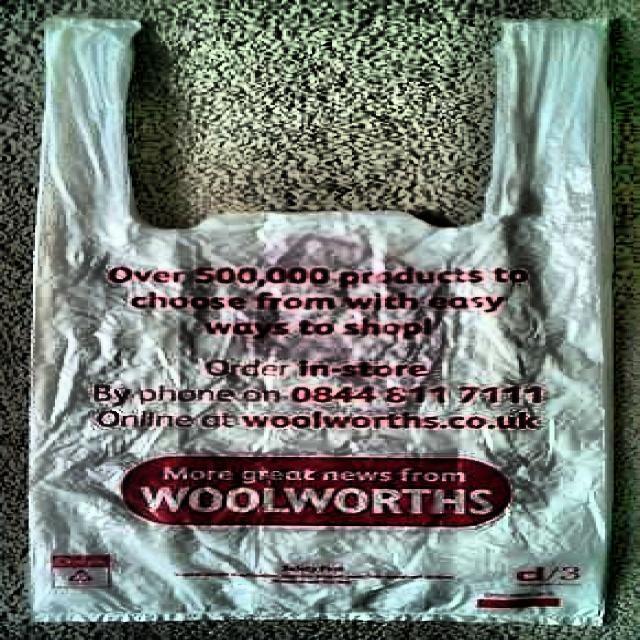Plastic: (0, 5, 640, 639)
